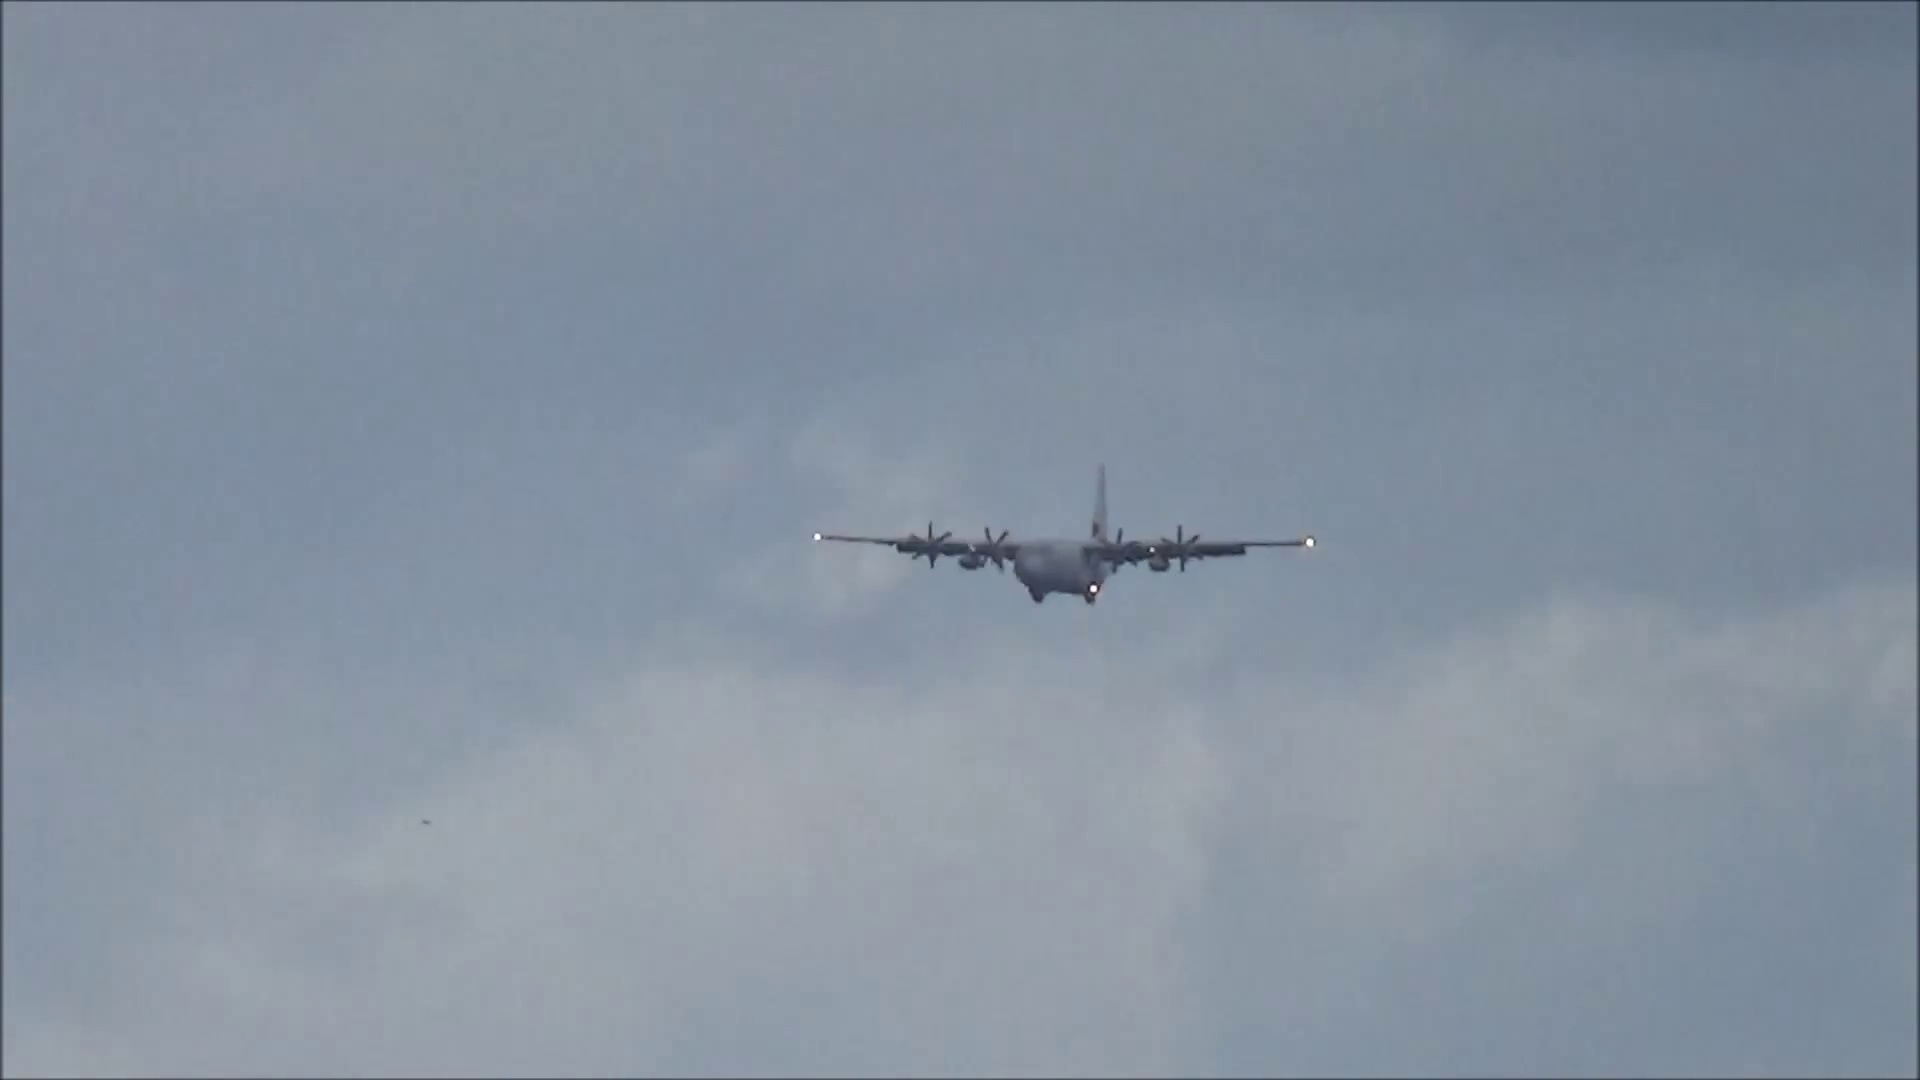Airplane: (808, 468, 1321, 618)
